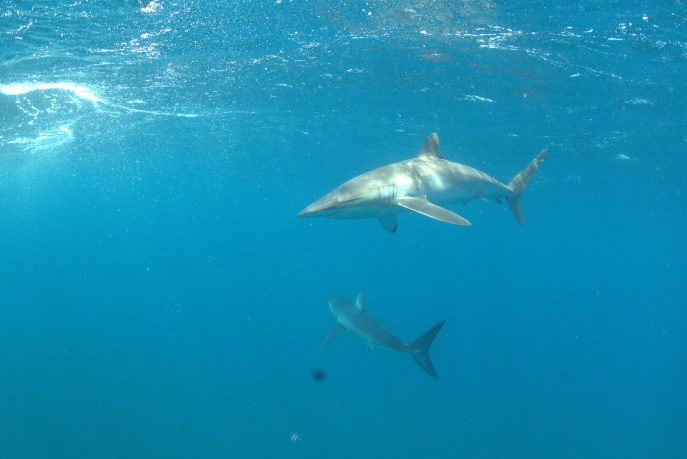Sedoso: (289, 126, 578, 257)
